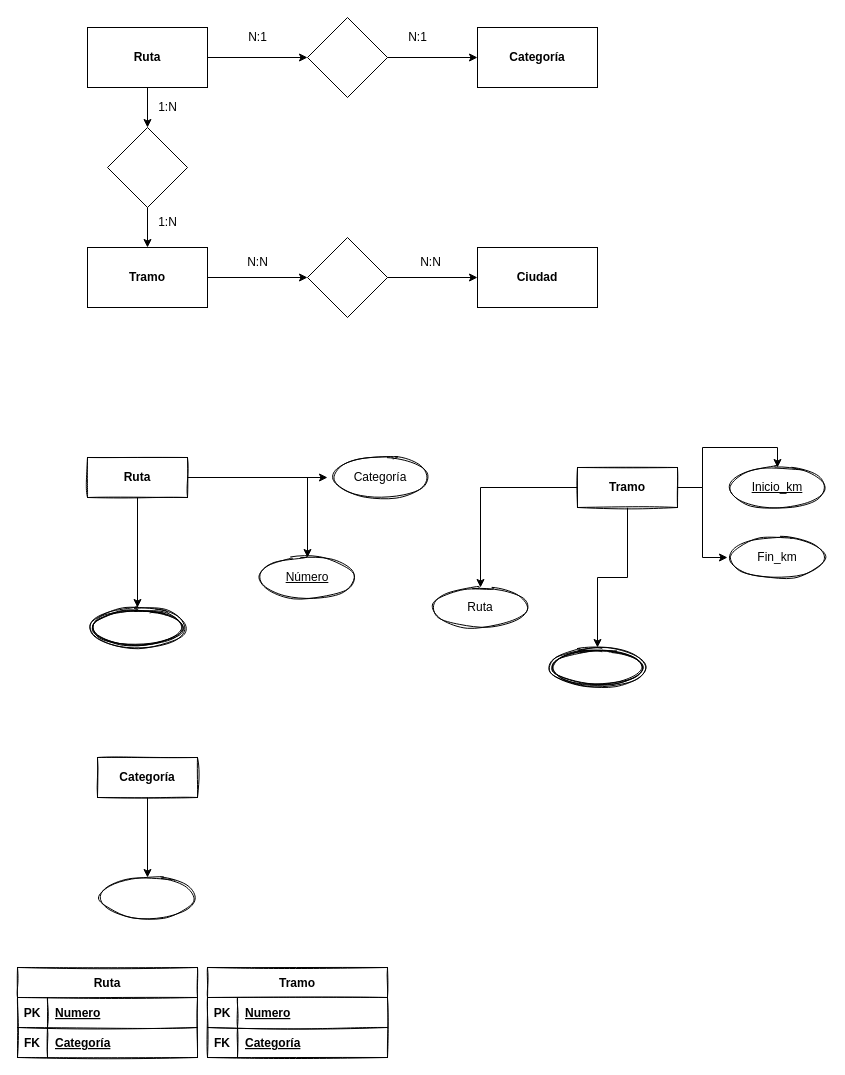
The diagram is 845 pixels wide and 1075 high, and some of its shapes have lost their labels. Each missing label, with the centre of its shape:
"Ciudades" belongs at (597,667).
"Nombre" belongs at (147,897).
"Pasa por" belongs at (347,277).
"Se divide en" belongs at (147,167).
"Tiene una" belongs at (347,57).
"Tramos" belongs at (137,627).
